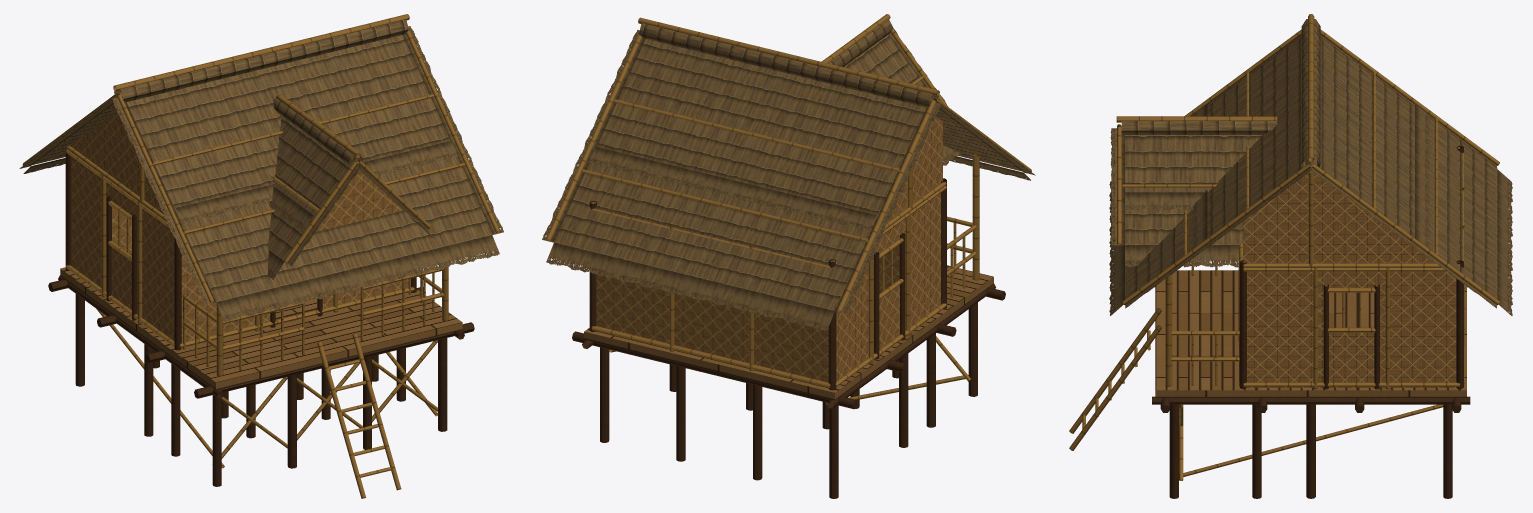
The picture shows the model from 3 angles, left to right: view 1: azimuth 30°, elevation 25°; view 2: azimuth 150°, elevation 25°; view 3: azimuth 270°, elevation 25°; orthographic projection.
Parts seen in each view (by area): view 1: hut_yakan_0; view 2: hut_yakan_0; view 3: hut_yakan_0.
Boxes of the visible parts, <box> form: hut_yakan_0: <box>19,14,503,498</box>; hut_yakan_0: <box>542,14,1035,498</box>; hut_yakan_0: <box>1069,14,1512,498</box>.
Size of the model in its own units: 5.26 by 5.81 by 6.63.
Materials: 6 (6 with a texture image).
